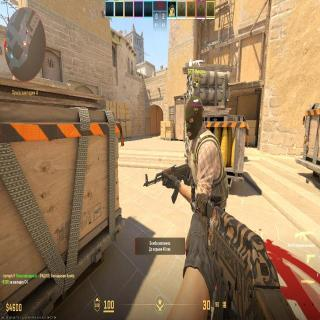T-Body: (178, 96, 226, 234)
T-Head: (184, 96, 203, 140)
